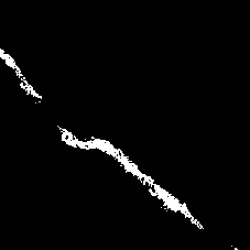crack: (58, 124, 210, 229), (2, 49, 43, 101)
